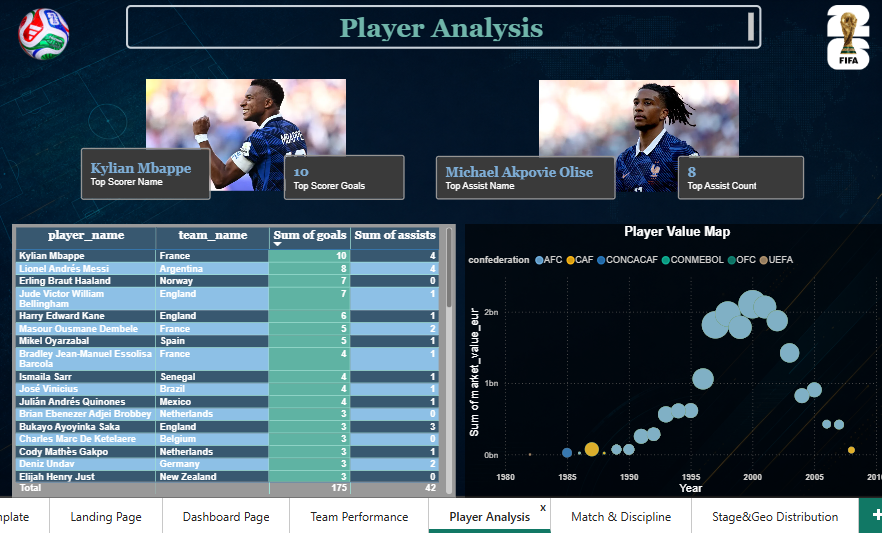

This screenshot's page, from the dashboard's own definition file:
{"tool":"powerbi","page":{"name":"Player Analysis","canvas":[1280,720],"ordinal":4},"visuals":[{"type":"image","box":[1161.4,10,118.3,93.3],"z":0},{"type":"image","title":"Navigation","box":[0,10.1,125.3,80.6],"z":1000},{"type":"textbox","box":[181.4,10.1,915,63.3],"z":2000},{"type":"image","box":[210.1,117,288.1,160.6],"z":3000},{"type":"cardVisual","fields":{"Data":["_Measures.Top Scorer Name"]},"box":[99.4,198.7,221.8,109.4],"z":4000},{"type":"cardVisual","fields":{"Data":["_Measures.Top Scorer Goals"]},"box":[391.7,208.8,208.8,99.4],"z":5000},{"type":"image","box":[776.8,118,288.1,160.6],"z":6000},{"type":"cardVisual","fields":{"Data":["_Measures.Top Assist Name"]},"box":[610.6,210.2,293.8,97.9],"z":7000},{"type":"cardVisual","fields":{"Data":["_Measures.Top Assist Count"]},"box":[958.9,210.1,216.1,97.5],"z":8000},{"type":"tableEx","fields":{"Values":["squads_and_players.player_name","teams.team_name","Sum(player_stats.goals)","Sum(player_stats.assists)"]},"box":[16.8,325.1,639.1,394.3],"z":9000},{"type":"scatterChart","title":"Player Value Map","fields":{"X":["squads_and_players.date_of_birth.Variation.Date Hierarchy.Year"],"Y":["Sum(squads_and_players.market_value_eur)"],"Series":["teams.confederation"],"Size":["Sum(player_stats.goals)"]},"box":[669,325.1,611,394.3],"z":10000}]}

Visuals, with their boxes on the page's 1280x720 design canvas (x1, y1, x2, y2). These are canvas units, not pixel positions in the 882x533 screenshot, which may show the page scaled, cropped or inside an application window:
image: rect(1161, 10, 1280, 103)
"Navigation" image: rect(0, 10, 125, 91)
textbox: rect(181, 10, 1096, 73)
image: rect(210, 117, 498, 278)
cardVisual - _Measures.Top Scorer Name: rect(99, 199, 321, 308)
cardVisual - _Measures.Top Scorer Goals: rect(392, 209, 600, 308)
image: rect(777, 118, 1065, 279)
cardVisual - _Measures.Top Assist Name: rect(611, 210, 904, 308)
cardVisual - _Measures.Top Assist Count: rect(959, 210, 1175, 308)
tableEx - squads_and_players.player_name x teams.team_name: rect(17, 325, 656, 719)
"Player Value Map" scatterChart: rect(669, 325, 1280, 719)
